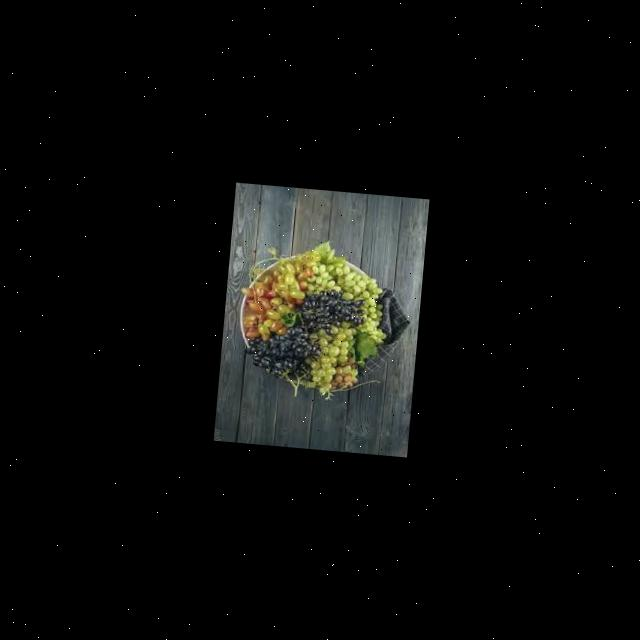grape: (232, 235, 394, 404)
